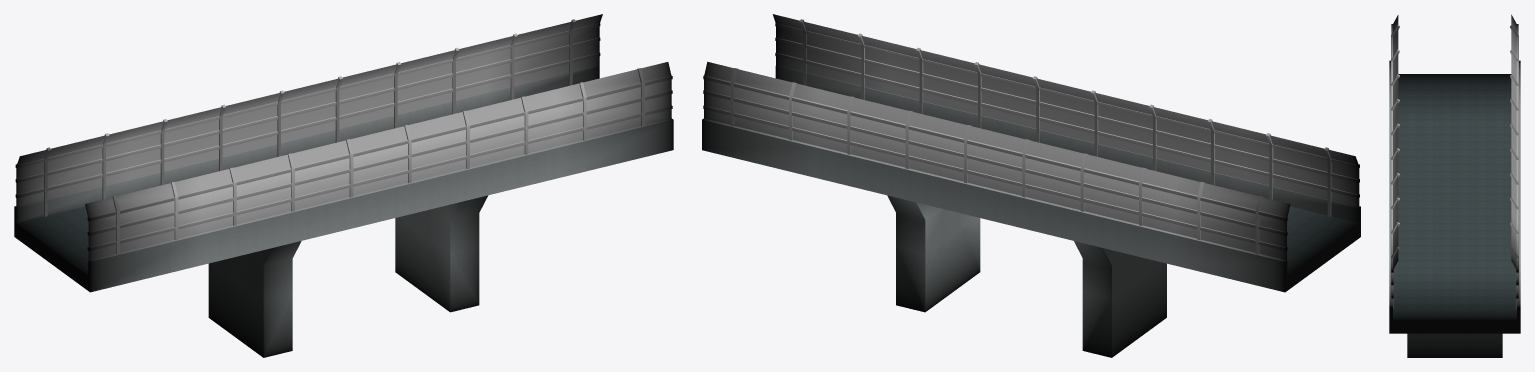
The model's file is KOUKA_CAR03.glb.
The picture shows the model from 3 angles, left to right: view 1: azimuth 30°, elevation 25°; view 2: azimuth 150°, elevation 25°; view 3: azimuth 270°, elevation 25°; orthographic projection. The views are drawn at different scales.
Parts seen in each view (by area): view 1: obj8; view 2: obj8; view 3: obj8.
Boxes of the visible parts, x1,y1,x2,y2 form: obj8: (14, 14, 673, 357); obj8: (702, 14, 1360, 357); obj8: (1389, 14, 1520, 357).
Size of the model in its own units: 200 by 66.72 by 45.
Materials: 3 (2 with a texture image).
